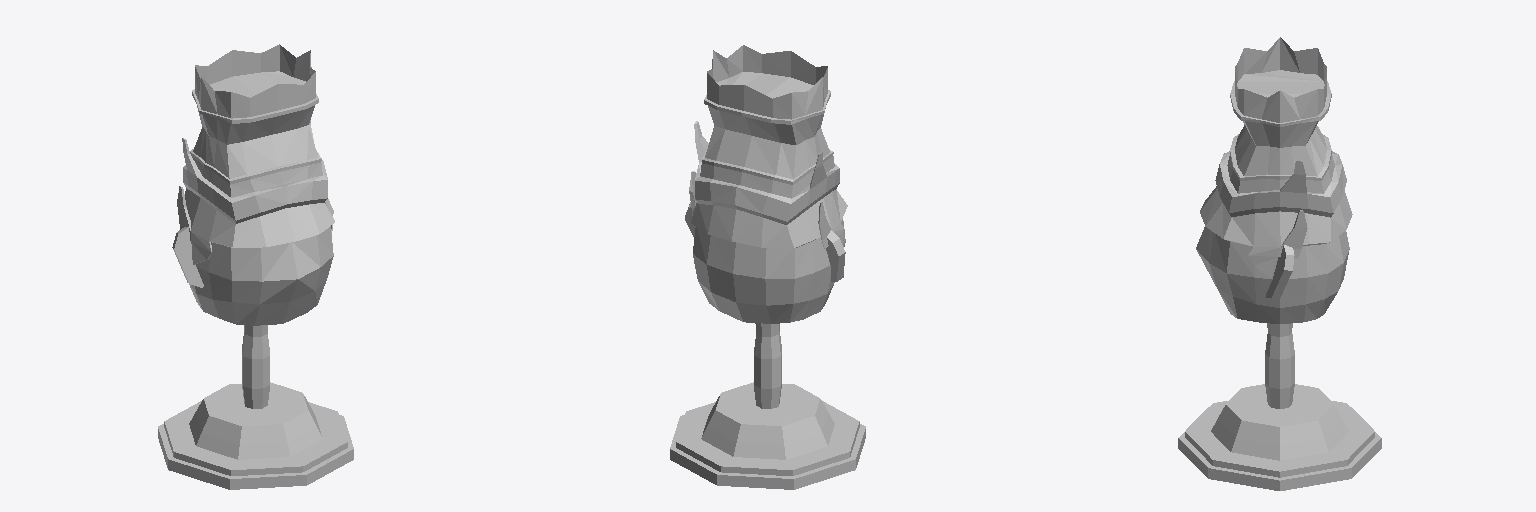
The model's file is PhorKae2.obj.
3 views of the same model, side by side, from view 1: azimuth 30°, elevation 25°; view 2: azimuth 150°, elevation 25°; view 3: azimuth 270°, elevation 25° (orthographic).
Visible parts, largest first — view 1: Cylinder.004; view 2: Cylinder.004; view 3: Cylinder.004.
Part boxes in pixels (left/top/right/bottom): Cylinder.004: left=158, top=44, right=353, bottom=489; Cylinder.004: left=670, top=45, right=865, bottom=489; Cylinder.004: left=1178, top=37, right=1381, bottom=490.
Size of the model in its own units: 2.19 by 4.58 by 2.19.